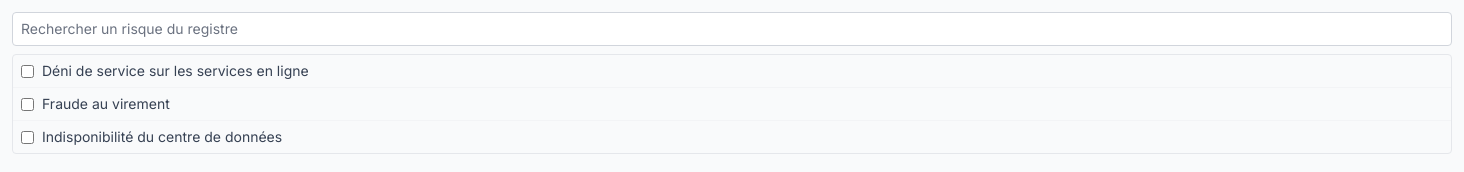
Test: RisquesRegistrePicker › aucun résultat : message
The width and height of the screenshot is (1464, 172).
Step 1. Type "zzz" into the search field labelled "Rechercher un risque du registre" → x=732, y=29, box [12,12,1452,46]
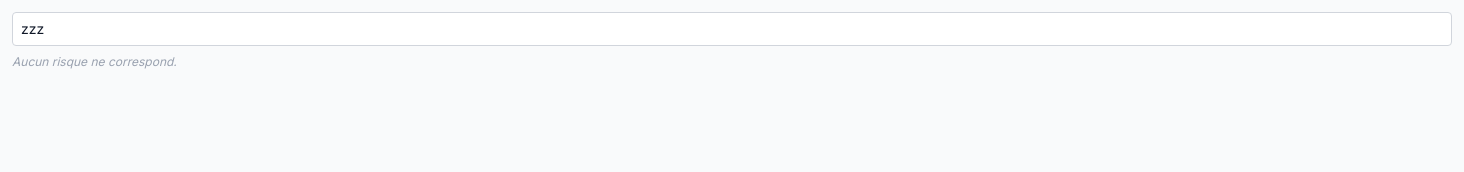
Result: the text "Aucun risque ne correspond." is shown at [12,54,177,69]
